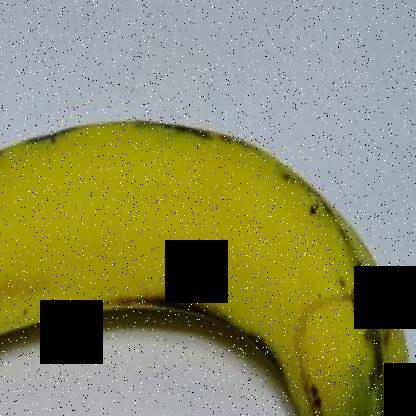freshripe: (0, 91, 415, 414)
